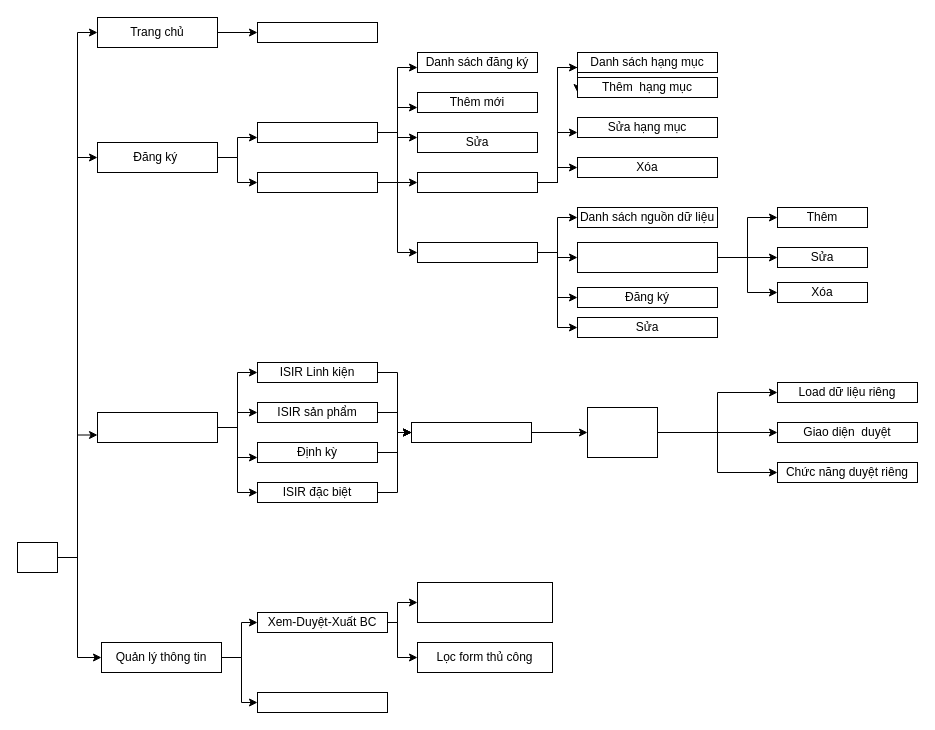
Some shapes in this 935 by 730 pixel diagram are drawn without their labels. Here are the shapes that lost their labels. From the top down, the centre of each, then its label:
point (317, 32): Lọc và xem form
point (317, 132): Đăng ký assy
point (317, 182): Đăng ký linh kiện
point (477, 182): Đăng ký hạng mục
point (477, 252): Đăng ký file tính toán
point (647, 257): Danh sách hạng mục trong file tính toán
point (157, 427): Ds đăng ký đo
point (471, 432): Chi tiết --> Form
point (622, 432): Giao diện từng form
point (37, 557): PI
point (484, 602): Hiển thị danh sách form cần duyệt theo user
point (322, 702): Lịch sử chỉnh sửa
